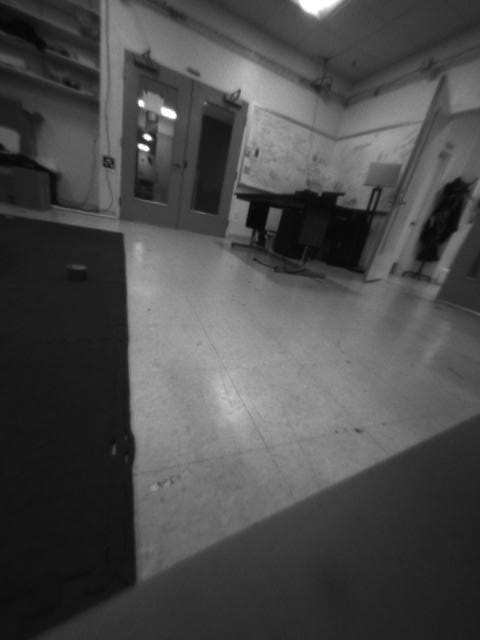dogtoy: (50, 250, 93, 291)
